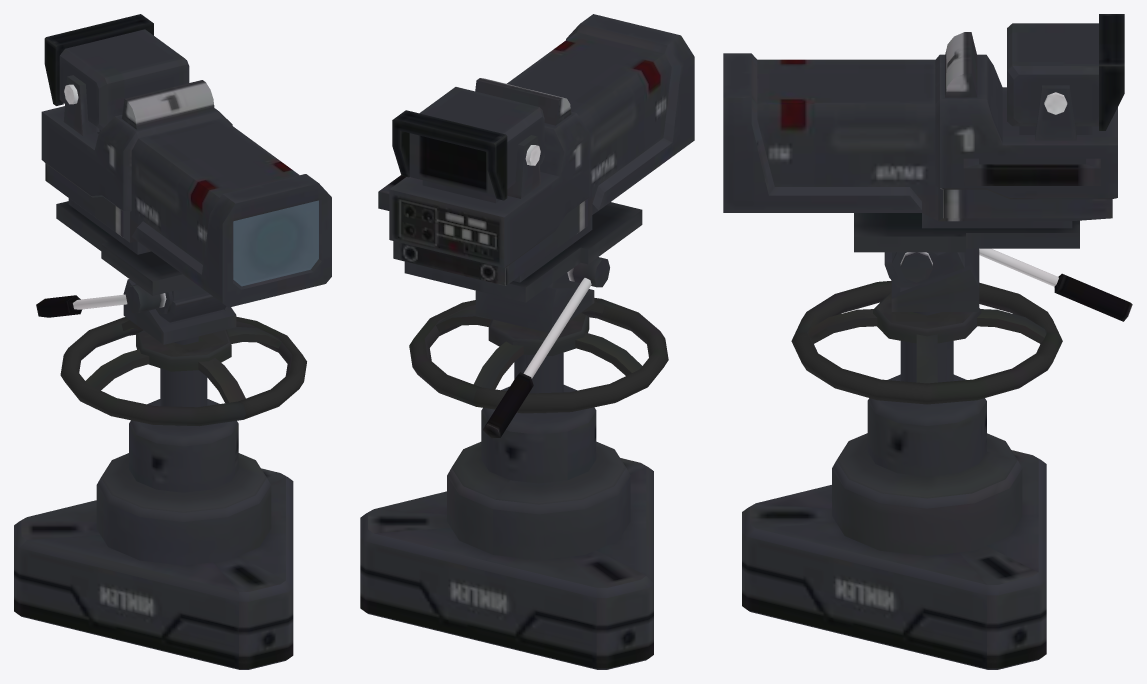
3 renders of one model, left to right at view 1: azimuth 30°, elevation 25°; view 2: azimuth 150°, elevation 25°; view 3: azimuth 270°, elevation 25°, orthographic. The views are drawn at different scales.
Size of the model in its own units: 8.19 by 14.64 by 9.71.
Materials: 3 (2 with a texture image).
